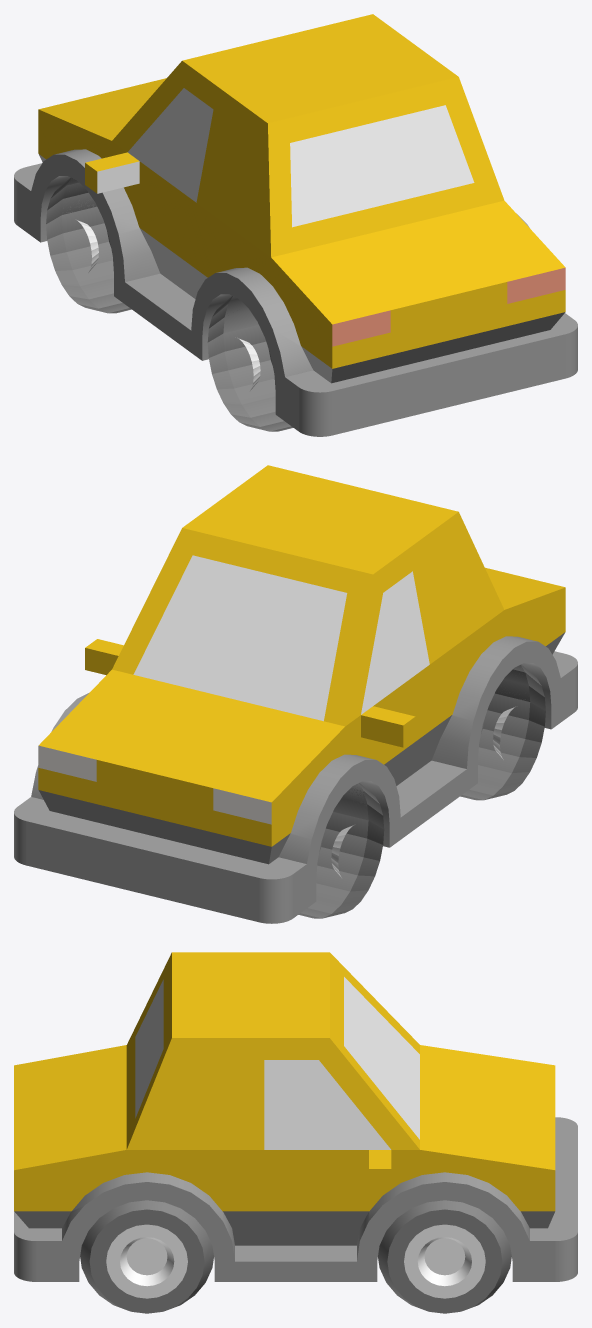
File: sedanSports.glb
3 renders of one model, top to bottom at view 1: azimuth 30°, elevation 25°; view 2: azimuth 150°, elevation 25°; view 3: azimuth 270°, elevation 25°, orthographic. The views are drawn at different scales.
Visible parts, largest first — view 1: body; view 2: body; view 3: body.
Part boxes in pixels (box(x1,y1,x2,y2)): body: box(14, 14, 577, 436); body: box(14, 465, 577, 923); body: box(14, 952, 577, 1313).
Bounding box in the file's own units: 1.5 × 1.3 × 2.5.
